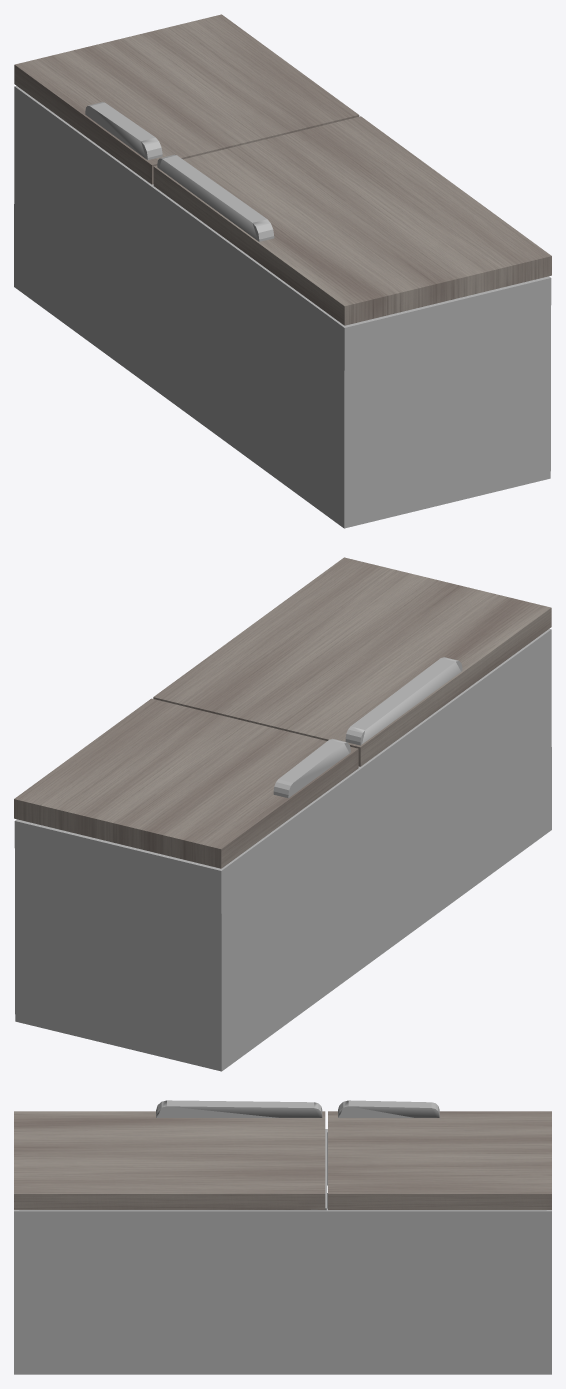
The model's file is refrigerator.obj.
The picture shows the model from 3 angles, top to bottom: view 1: azimuth 30°, elevation 25°; view 2: azimuth 150°, elevation 25°; view 3: azimuth 270°, elevation 25°; orthographic projection. The views are drawn at different scales.
Visible parts, largest first — view 1: refrigerator_Mesh.3431; view 2: refrigerator_Mesh.3431; view 3: refrigerator_Mesh.3431.
Boxes of the visible parts, left/top/right/bottom form: refrigerator_Mesh.3431: left=14, top=14, right=551, bottom=528; refrigerator_Mesh.3431: left=14, top=557, right=551, bottom=1071; refrigerator_Mesh.3431: left=14, top=1100, right=551, bottom=1374.
Size of the model in its own units: 0.6967 by 0.7588 by 1.92.
Materials: 4 (1 with a texture image).
